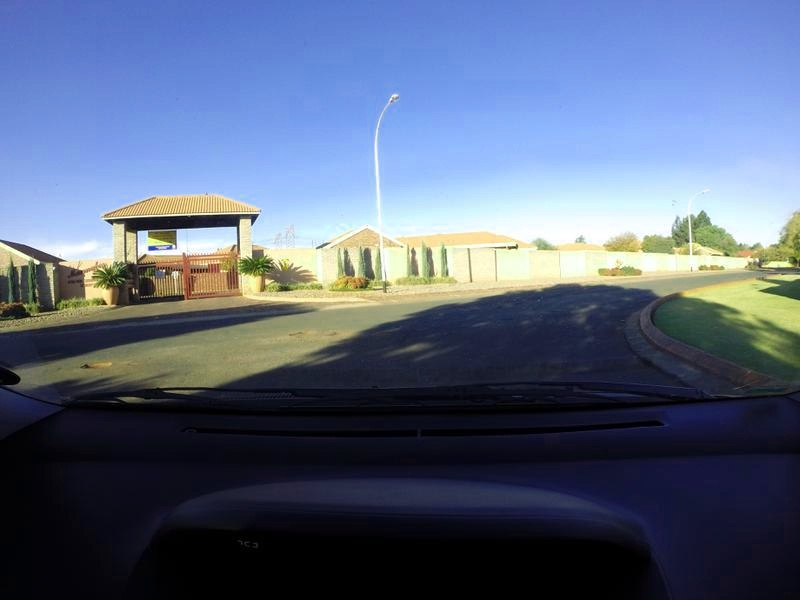pothole: (67, 353, 135, 387), (283, 323, 346, 344)
